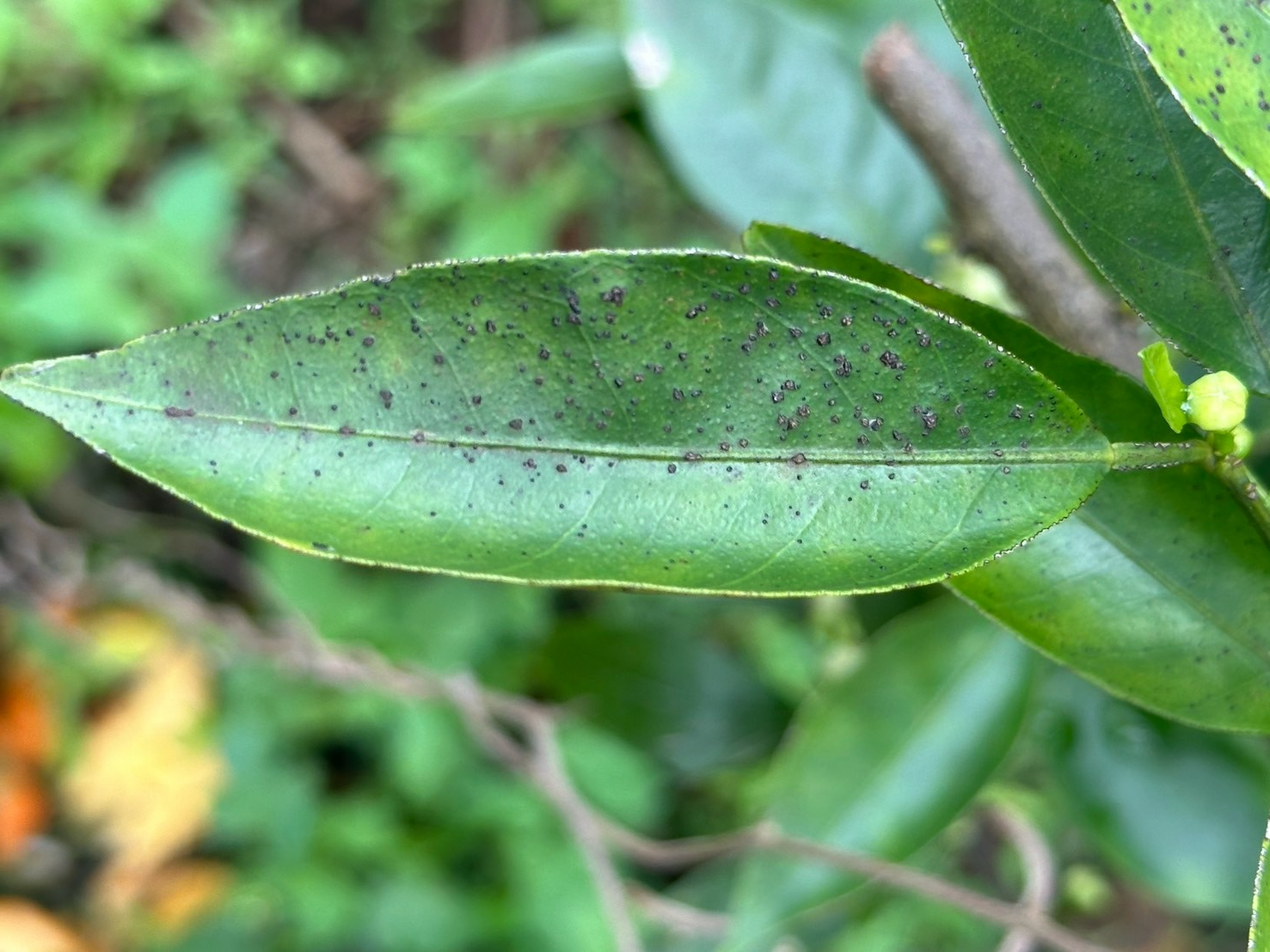Black_Spot: (0, 251, 1131, 595)
